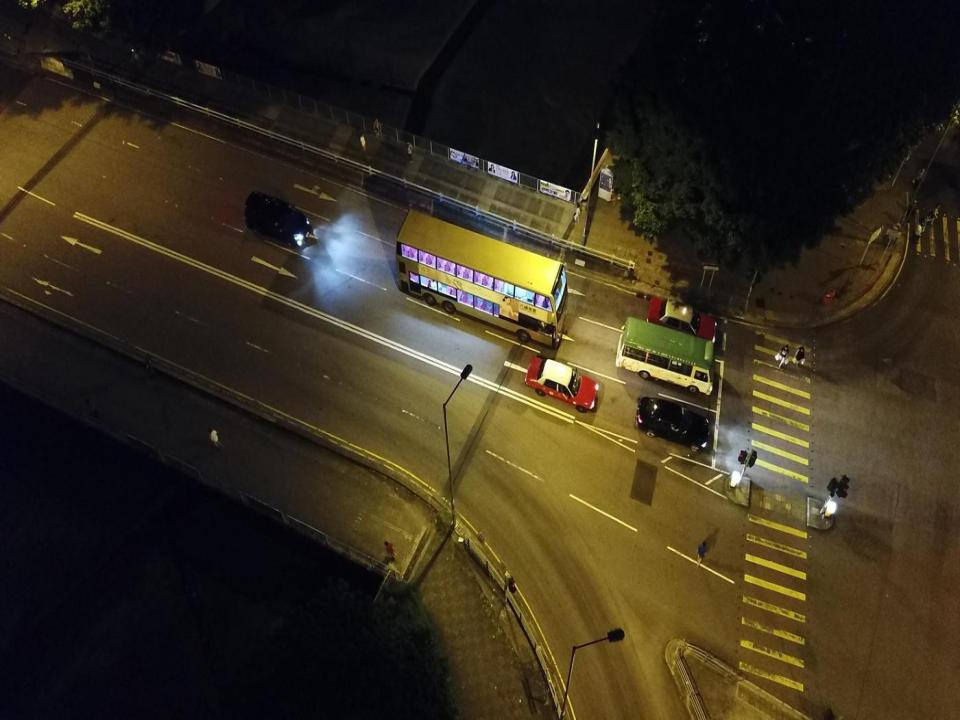bus: (395, 208, 568, 350), (615, 316, 716, 396), (244, 189, 311, 247)
car: (524, 355, 599, 413), (636, 396, 710, 452), (645, 296, 719, 346)
